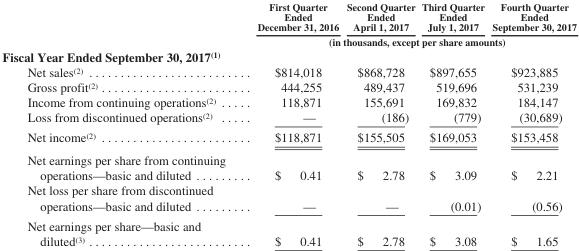table: (1, 0, 575, 247)
table column: (1, 0, 240, 247), (240, 0, 342, 247), (487, 0, 575, 247), (342, 0, 417, 247), (417, 0, 487, 247)
table column header: (1, 0, 575, 48)
table projected row header: (1, 48, 575, 63)
table row: (1, 0, 575, 34), (1, 148, 575, 182), (1, 182, 575, 215), (1, 215, 575, 247), (1, 127, 575, 148), (1, 109, 575, 127), (1, 63, 575, 79), (1, 48, 575, 63), (1, 79, 575, 94), (1, 94, 575, 109), (1, 34, 575, 48)
table spanning cell: (240, 34, 575, 48)
